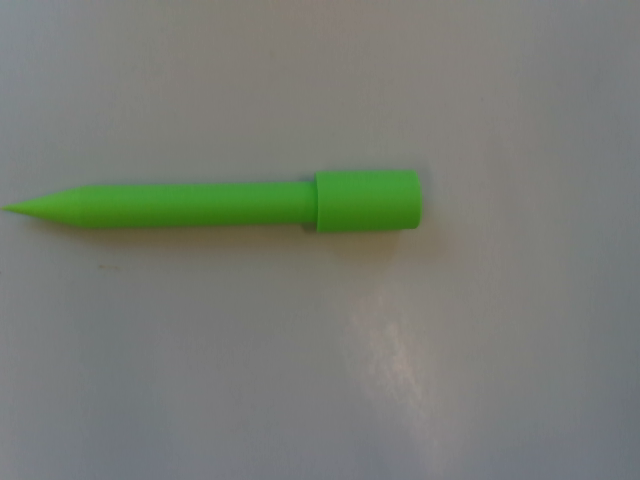Probe: (1, 162, 425, 241)
